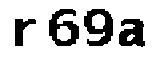6: (44, 5, 82, 53)
9: (80, 5, 114, 53)
a: (114, 15, 147, 51)
r: (13, 15, 37, 49)
